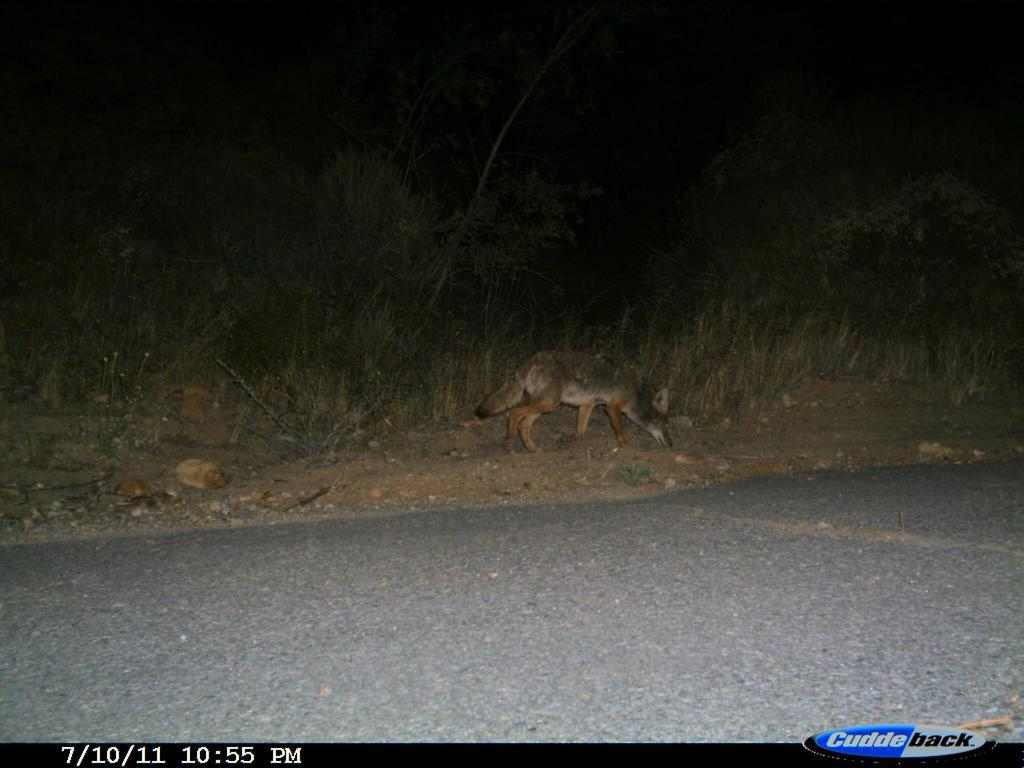coyote: (457, 317, 713, 510)
